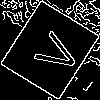V: (25, 25, 84, 78)
